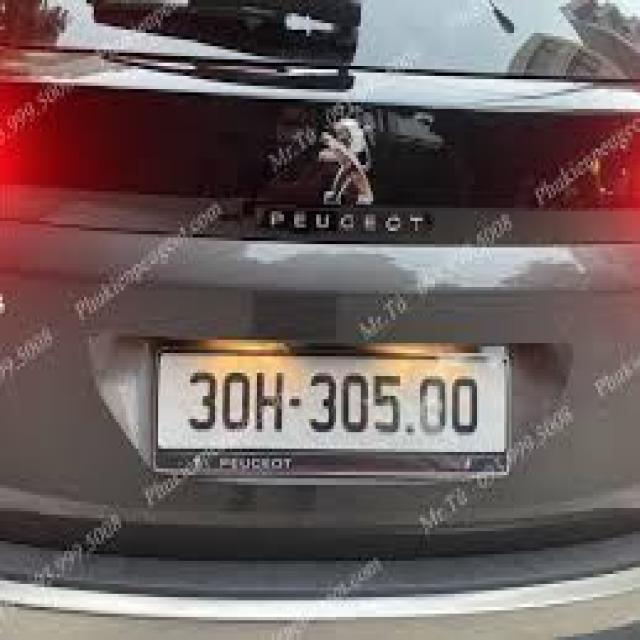bien_so: (143, 336, 516, 500)
